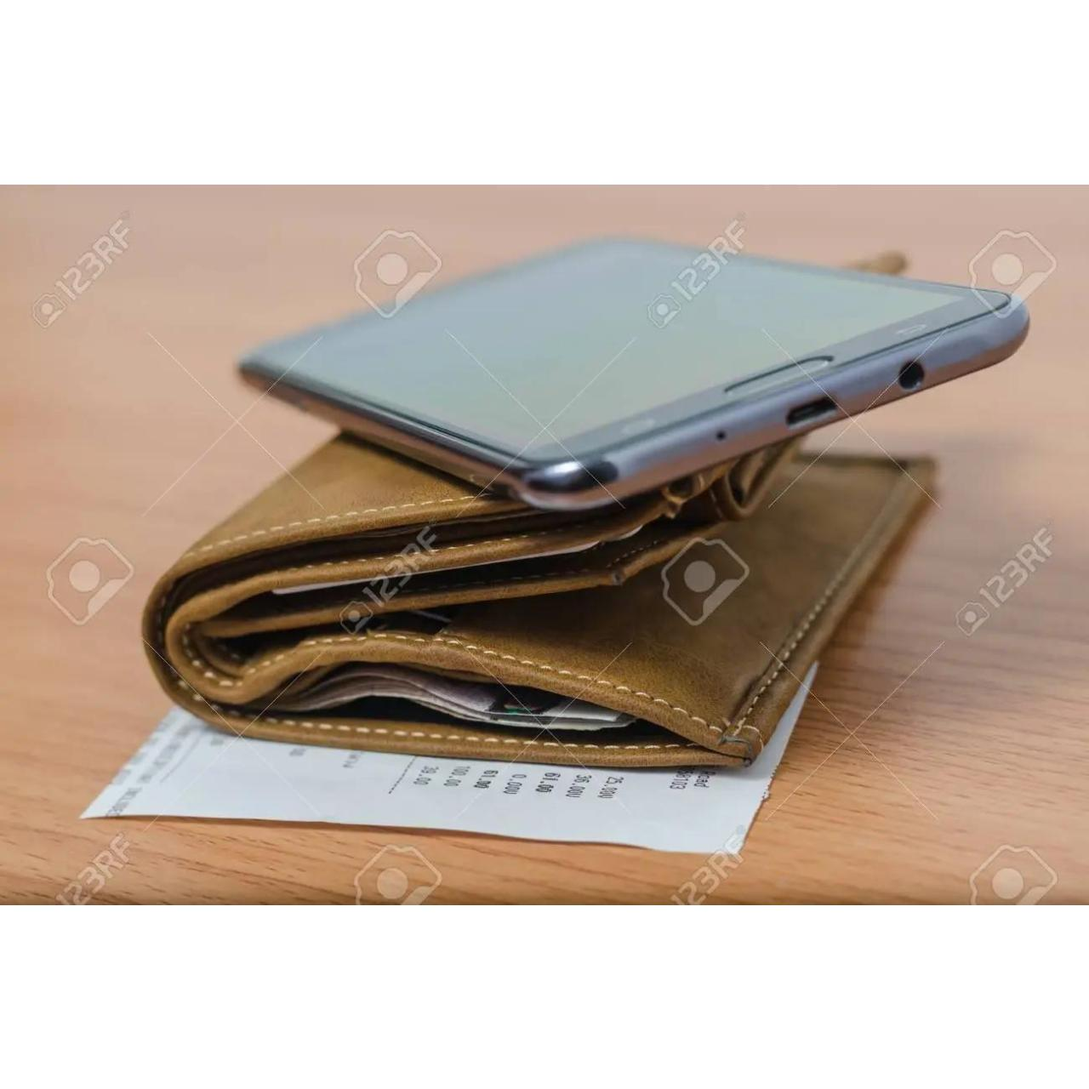wallet: (130, 408, 810, 781)
